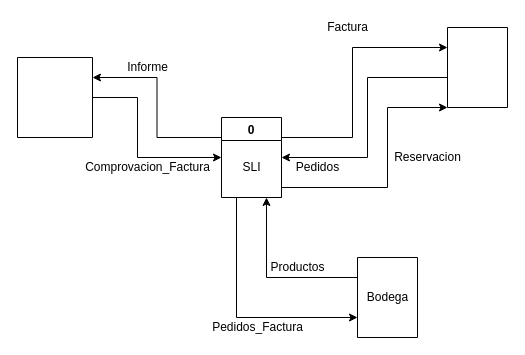
This 525x355 diagram has some shape labels left out. The centre of each missing label's shape, as x and y in pixels:
Cliente: (x=477, y=67)
Gerencia: (x=54, y=97)
